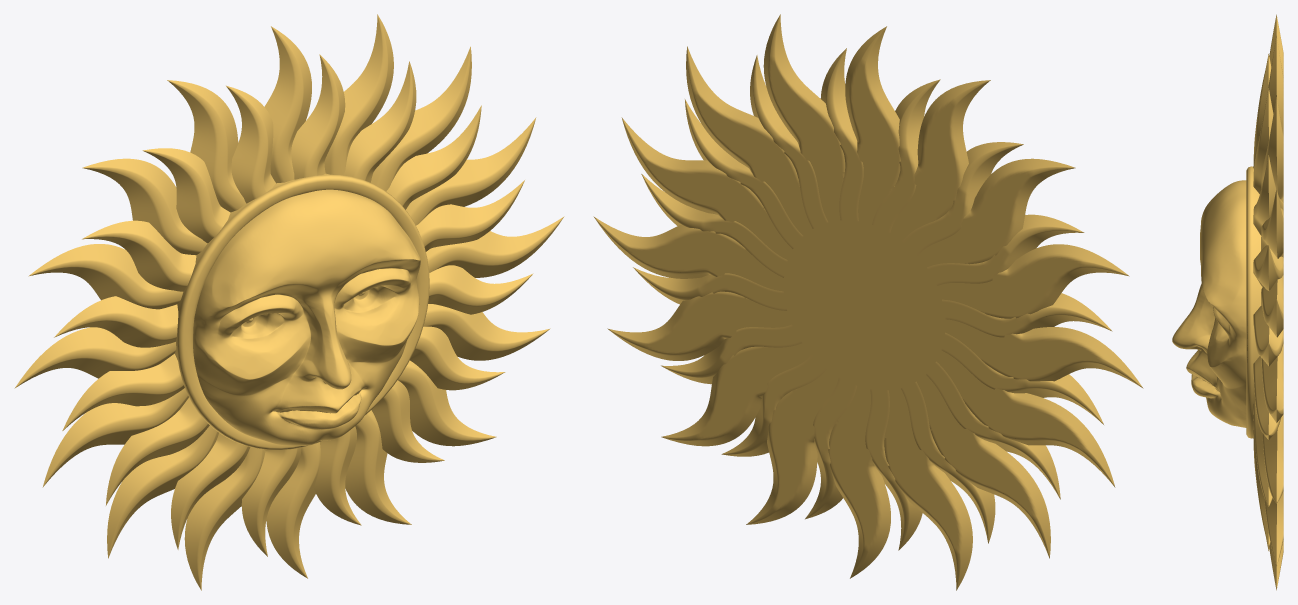
File: sun_decoration.glb
3 renders of one model, left to right at view 1: azimuth 30°, elevation 25°; view 2: azimuth 150°, elevation 25°; view 3: azimuth 270°, elevation 25°, orthographic. The views are drawn at different scales.
Visible parts, largest first — view 1: Object_2, Object_6, Object_7, Object_3, Object_5, Object_4; view 2: Object_2, Object_5, Object_7, Object_6, Object_3; view 3: Object_6, Object_2, Object_3, Object_5, Object_4, Object_7.
Part boxes in pixels (x1,y1,x2,y2): Object_2: (14,14,564,590); Object_6: (201,54,533,314); Object_7: (54,220,505,556); Object_3: (142,14,420,443); Object_5: (175,173,429,449); Object_4: (195,216,418,441); Object_2: (593,14,1143,590); Object_5: (742,172,986,438); Object_7: (661,214,1112,550); Object_6: (633,48,863,367); Object_3: (845,26,1023,255); Object_6: (1200,88,1283,505); Object_2: (1261,14,1283,590); Object_3: (1174,35,1283,427); Object_5: (1172,166,1262,438); Object_4: (1187,259,1246,406); Object_7: (1253,402,1272,550).
Bounding box in the file's own units: 46.83 × 45.72 × 8.9.
